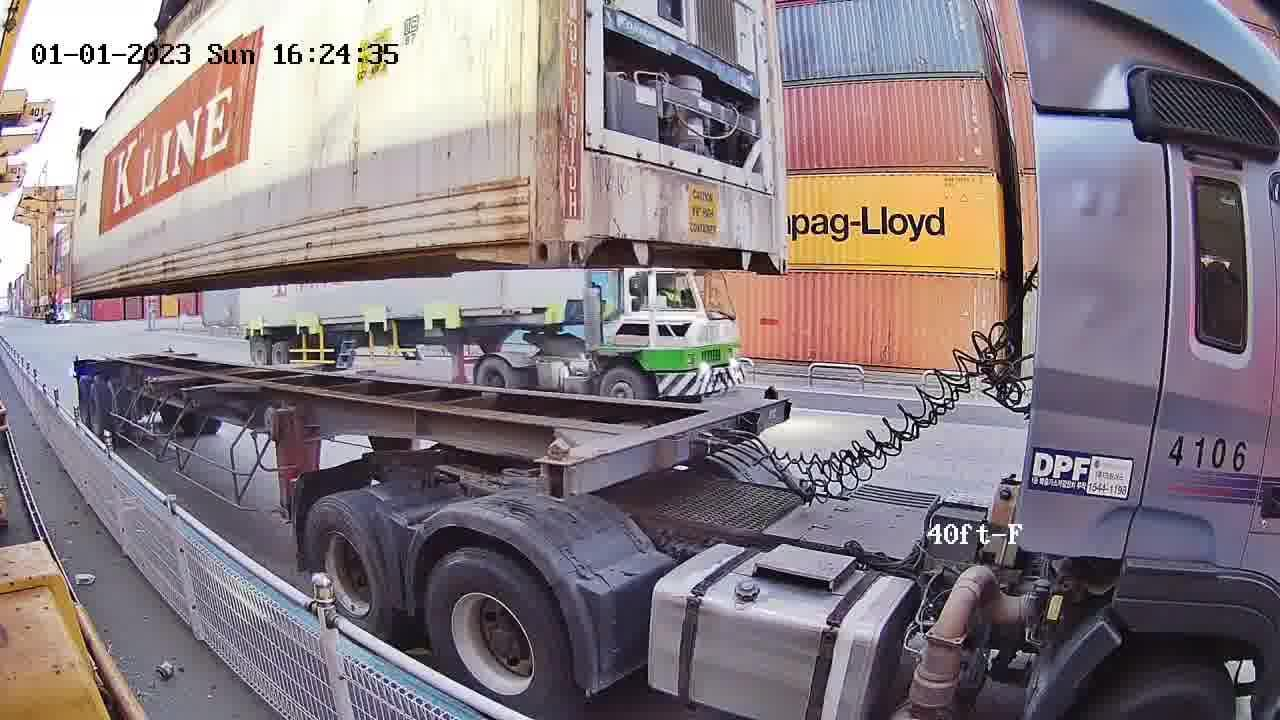Chassis: (537, 393, 788, 498)
Cone: (540, 440, 572, 498), (763, 383, 782, 417)
Hole_L: (557, 213, 615, 268)
Hole_R: (488, 214, 556, 267), (753, 230, 788, 279)
Tire: (423, 553, 564, 713), (304, 497, 393, 635)
